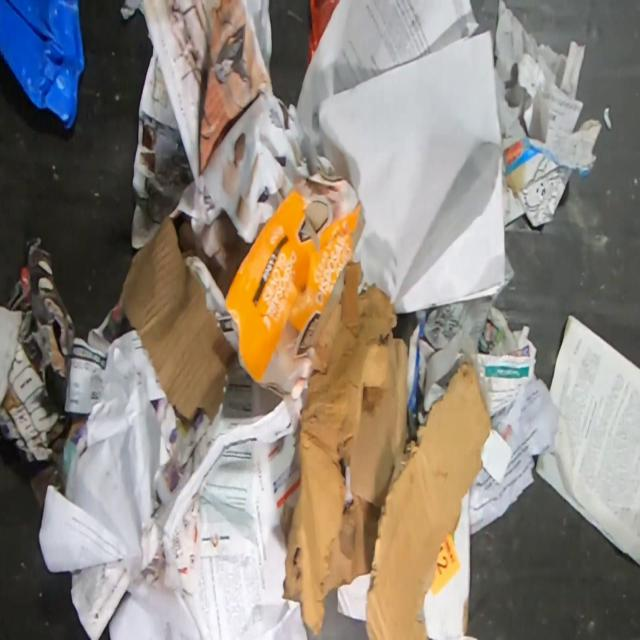cardboard: (281, 259, 411, 640), (366, 355, 492, 639), (225, 174, 366, 386), (123, 213, 239, 423)
rigid_plastic: (0, 0, 86, 130)
